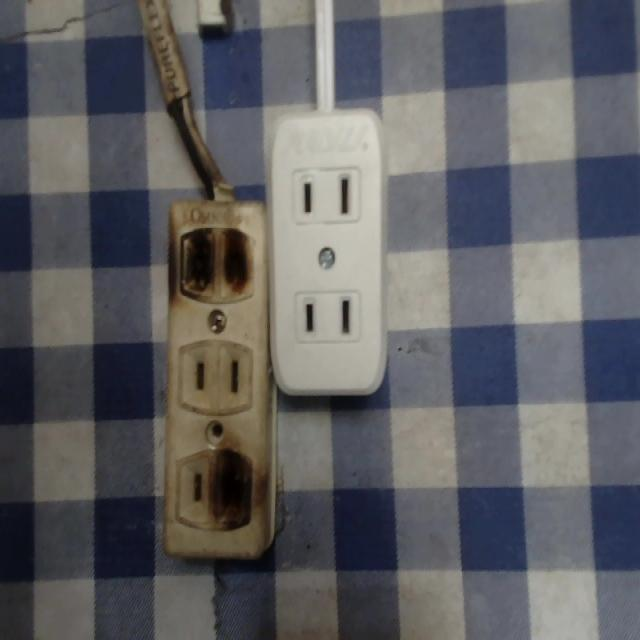-: (173, 219, 256, 296), (211, 446, 259, 526)
